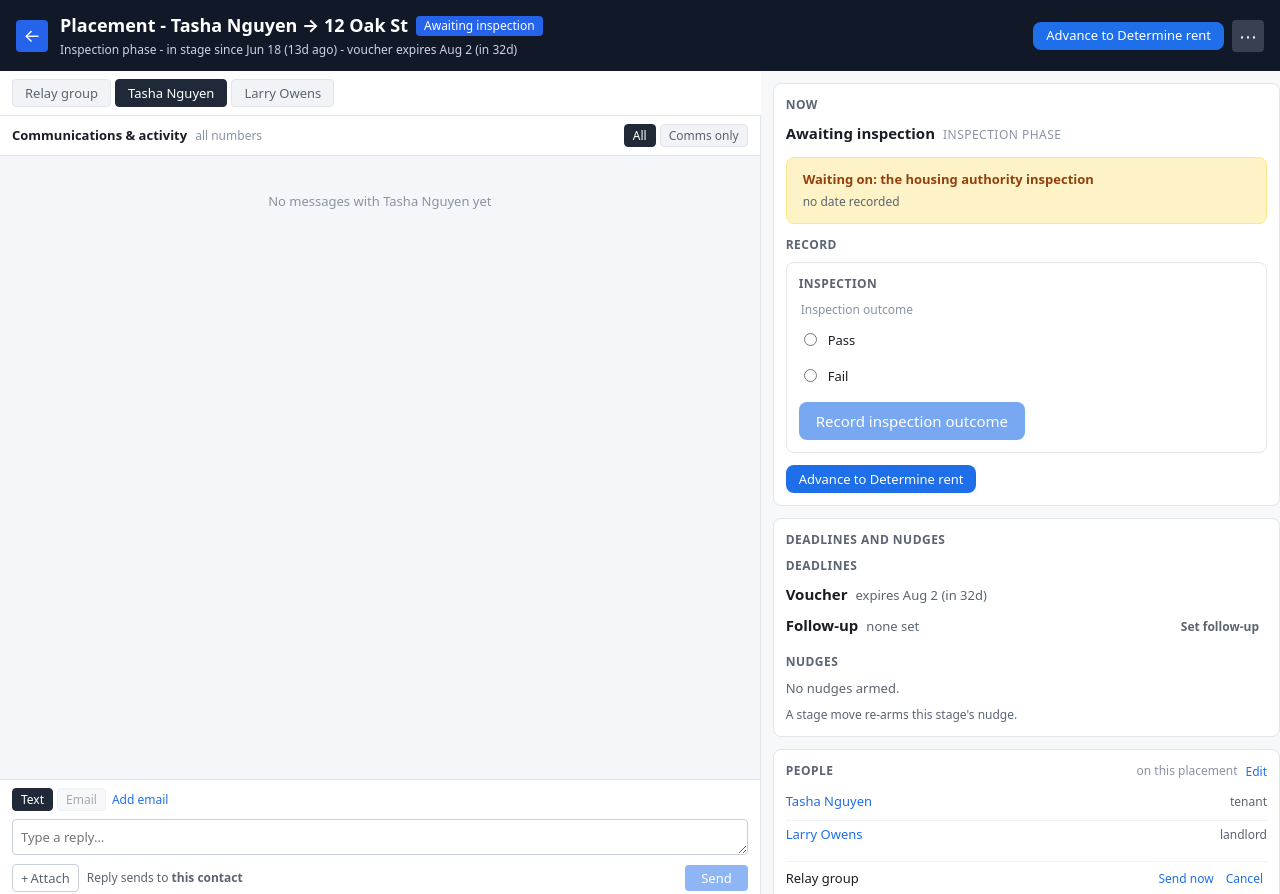
Test: PlacementDetail - header › the KEBAB stays LIVE while an open is merely deferred (Send now anyway)
The width and height of the screenshot is (1280, 894).
Expected: the link named "Back to placements" is shown, [16,20,48,52]
Click the button named "More actions".
click(1248, 36)  # box [1232,20,1264,52]
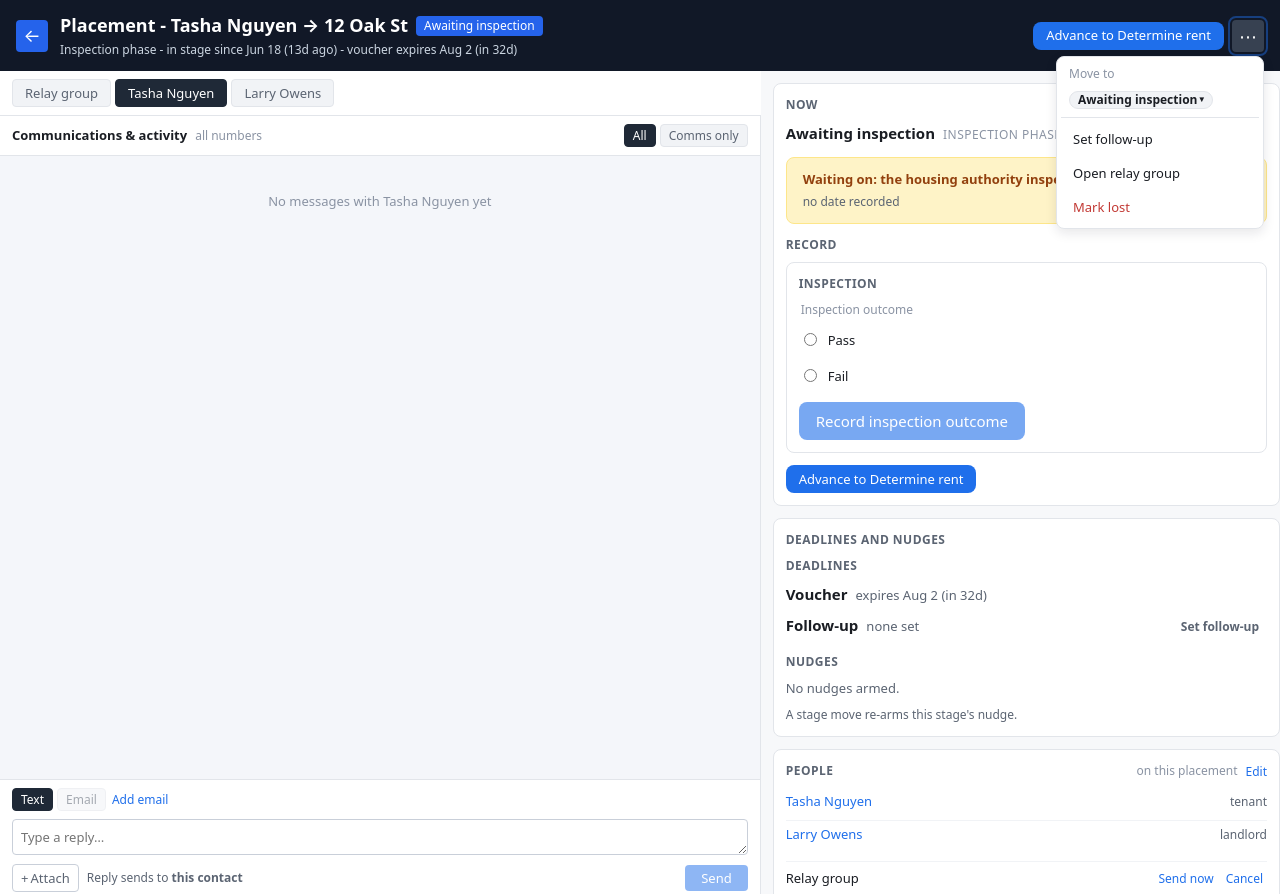
Expected: the menu item "Open relay group" is enabled, [1061,156,1259,190]
